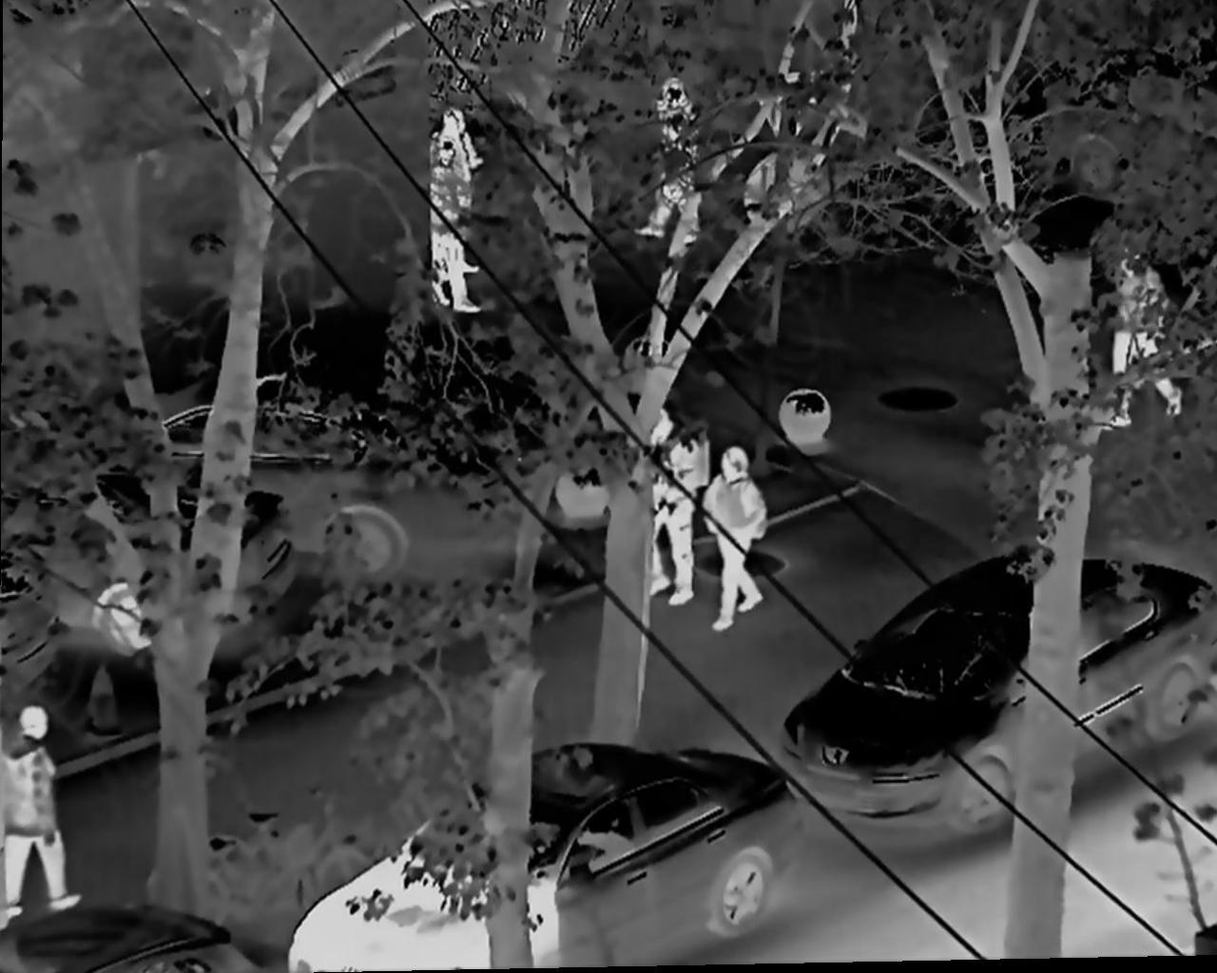person: (1111, 272, 1186, 428), (703, 444, 764, 626), (424, 140, 484, 315), (647, 409, 693, 610)
